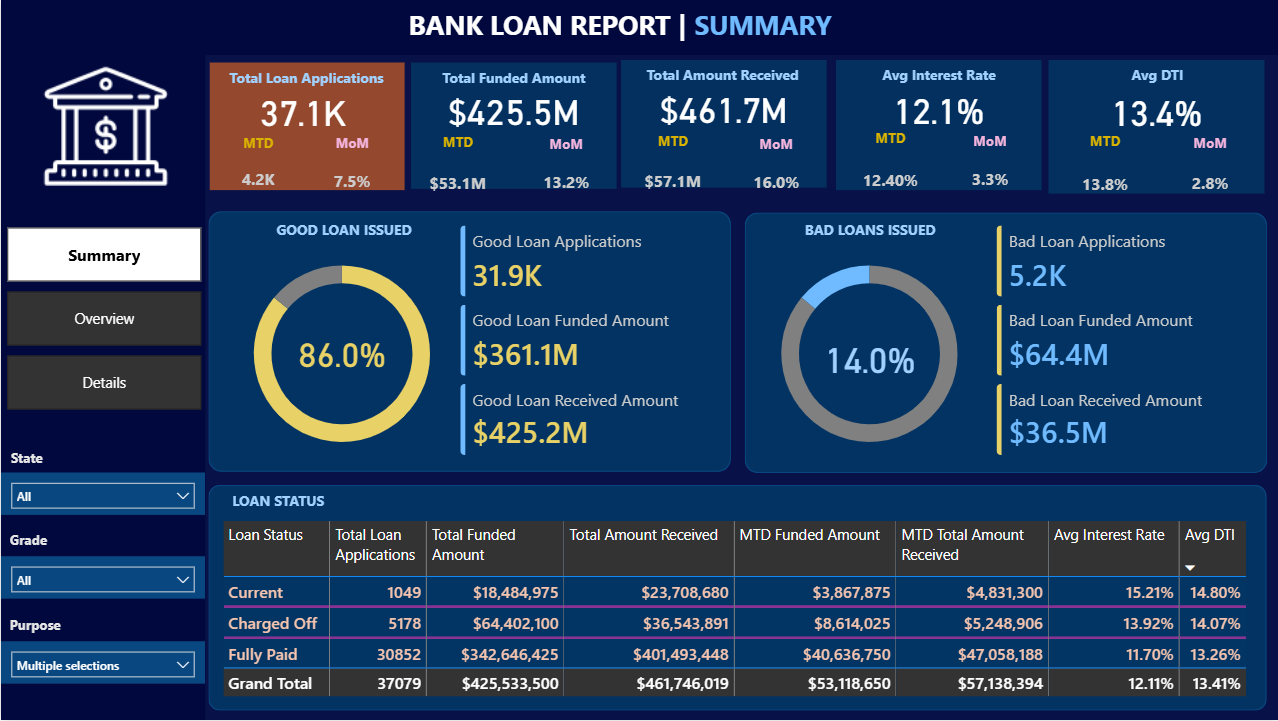

The dashboard page shown, as its layout file describes it:
{"tool":"powerbi","page":{"name":"Summary","canvas":[1280,720],"ordinal":0},"visuals":[{"type":"shape","box":[619.7,60.4,205.8,127.6],"z":0,"group":"g2"},{"type":"shape","box":[834.4,60.4,205.8,130.1],"z":0},{"type":"shape","box":[1047.9,60.4,216.1,133.8],"z":0,"group":"g4"},{"type":"shape","box":[208,63.1,194.9,127.6],"z":0,"group":"g1"},{"type":"shape","box":[409.4,63.1,205.8,126.5],"z":0,"group":"g3"},{"type":"cardVisual","fields":{"Data":["Bank_loan_data.Total Amount Received"]},"box":[619.7,75.5,205.8,68.6],"z":1000,"group":"g2"},{"type":"cardVisual","fields":{"Data":["Bank_loan_data.Avg DTI"]},"box":[1047.9,76.2,216.1,71.9],"z":1000,"group":"g4"},{"type":"cardVisual","fields":{"Data":["Bank_loan_data.Total Funded Amount"]},"box":[409.4,78.1,205.8,68],"z":1000,"group":"g3"},{"type":"cardVisual","fields":{"Data":["Bank_loan_data.Total Loan Applications"]},"box":[204.5,78.6,194.9,68.6],"z":1000,"group":"g1"},{"type":"shape","box":[207.5,211.1,522.4,260.6],"z":1000},{"type":"textbox","box":[628.4,60.4,188.4,30.2],"z":2000,"group":"g2"},{"type":"textbox","box":[1057,60.4,197.8,31.7],"z":2000,"group":"g4"},{"type":"textbox","box":[216.2,63.1,178.4,30.2],"z":2000,"group":"g1"},{"type":"textbox","box":[418.1,63.1,188.4,29.9],"z":2000,"group":"g3"},{"type":"cardVisual","fields":{"Data":["Bank_loan_data.Avg Interest Rate"]},"box":[834.4,75.8,205.8,69.9],"z":2000},{"type":"cardVisual","title":"MTD","fields":{"Data":["Bank_loan_data.MTD Avg DTI"]},"box":[1034.8,131.2,138.6,83.7],"z":3000,"group":"g4"},{"type":"cardVisual","title":"MTD","fields":{"Data":["Bank_loan_data.MTD Total Amount Received"]},"box":[606.5,132.1,131.7,79.6],"z":3000,"group":"g2"},{"type":"cardVisual","title":"MTD","fields":{"Data":["Bank_loan_data.MTD Funded Amount"]},"box":[391.1,133,131.7,79.9],"z":3000,"group":"g3"},{"type":"cardVisual","title":"MTD","fields":{"Data":["Bank_loan_data.MRD Loan Applications"]},"box":[208,134.5,97.4,68.6],"z":3000,"group":"g1"},{"type":"textbox","box":[254.6,214.7,176.1,30.2],"z":3000},{"type":"shape","box":[0,54.9,204.5,665.5],"z":4000},{"type":"cardVisual","title":"MoM","fields":{"Data":["Bank_loan_data.MoM Avg DTI"]},"box":[1151.7,134,113.9,76.8],"z":4000,"group":"g4"},{"type":"cardVisual","title":"MoM","fields":{"Data":["Bank_loan_data.MoM Loan Application"]},"box":[299.9,134.5,102.9,72.7],"z":4000,"group":"g1"},{"type":"cardVisual","title":"MoM","fields":{"Data":["Bank_loan_data.MoM Total Amount Received"]},"box":[721,134.8,108.4,72.7],"z":4000,"group":"g2"},{"type":"cardVisual","title":"MoM","fields":{"Data":["Bank_loan_data.MoM Total Funded Amount"]},"box":[511.6,135.3,108.4,72.1],"z":4000,"group":"g3"},{"type":"donutChart","fields":{"Category":["Bank_loan_data.Good vs Bad Loan"],"Y":["Bank_loan_data.Total Loan Applications"]},"box":[216,238.9,249.7,230.4],"z":5000},{"type":"shape","box":[0,0,1280.3,55],"z":6000},{"type":"textbox","box":[843.1,60.4,188.4,30.8],"z":7000},{"type":"shape","box":[0,0,1280.3,54.9],"z":8000},{"type":"cardVisual","title":"MTD","fields":{"Data":["Bank_loan_data.MTD Avg Int Rate"]},"box":[823.3,128.5,131.7,81],"z":9000},{"type":"cardVisual","title":"MoM","fields":{"Data":["Bank_loan_data.MoM Avg Int Rate"]},"box":[935.4,131.2,108.4,74.1],"z":10000},{"type":"cardVisual","fields":{"Data":["Bank_loan_data.Good Loan %"]},"box":[261.8,319.7,160.5,67.6],"z":11000},{"type":"textbox","box":[402.1,1.4,447.3,53.5],"z":12000},{"type":"group","id":"g1","title":"Group 1","box":[204.5,63.1,199,144.1],"z":13000},{"type":"group","id":"g2","title":"Group 1","box":[606.5,60.4,222.3,150.9],"z":14000},{"type":"group","id":"g3","title":"Group 1","box":[391.1,63.1,229.2,149.6],"z":15000},{"type":"group","id":"g4","title":"Group 1","box":[1034.8,60.4,230.8,154.5],"z":16000},{"type":"shape","box":[207.5,485,1058,225.6],"z":17000},{"type":"shape","box":[743.2,212.3,522.4,260.6],"z":18000},{"type":"cardVisual","fields":{"Data":["Bank_loan_data.Good Loan Applications","Bank_loan_data.Good Loan Funded Amount","Bank_loan_data.Good Loan Received Amount"]},"box":[442.8,208.7,287.1,265.4],"z":19000},{"type":"donutChart","fields":{"Category":["Bank_loan_data.Good vs Bad Loan"],"Y":["Bank_loan_data.Total Loan Applications"]},"box":[744.4,238.9,249.7,230.4],"z":20000},{"type":"textbox","box":[779.4,214.7,181,39.8],"z":21000},{"type":"cardVisual","fields":{"Data":["Bank_loan_data.Bad Loan Applications","Bank_loan_data.Bad Loan Funded Amount","Bank_loan_data.Bad Loan Received Amount"]},"box":[978.4,208.7,287.1,265.4],"z":22000},{"type":"cardVisual","fields":{"Data":["Bank_loan_data.Bad Loan %"]},"box":[789,325.7,160.5,67.6],"z":23000},{"type":"tableEx","fields":{"Values":["Bank_loan_data.loan_status","Bank_loan_data.Total Loan Applications","Bank_loan_data.Total Funded Amount","Bank_loan_data.Total Amount Received","Bank_loan_data.MTD Funded Amount","Bank_loan_data.MTD Total Amount Received","Bank_loan_data.Avg Interest Rate","Bank_loan_data.Avg DTI"]},"box":[216,516.4,1044.8,194.2],"z":24000},{"type":"textbox","box":[226.8,486.2,176.1,30.2],"z":25000},{"type":"slicer","fields":{"Values":["Bank_loan_data.address_state"]},"box":[0,472.9,203.9,42.2],"z":26000},{"type":"textbox","box":[1.2,444,203.9,30.2],"z":27000},{"type":"slicer","fields":{"Values":["Bank_loan_data.grade"]},"box":[0,556.2,203.9,42.2],"z":28000},{"type":"slicer","fields":{"Values":["Bank_loan_data.purpose"]},"box":[0,641.8,203.9,42.2],"z":29000},{"type":"textbox","box":[0,526,203.9,30.2],"z":30000},{"type":"textbox","box":[0,611.7,203.9,30.2],"z":31000},{"type":"image","box":[21.7,59.1,166.5,135.1],"z":32000},{"type":"pageNavigator","box":[6,228,194.2,182.2],"z":33000}]}

Visuals, with their boxes in screenshot pixels (x1, y1, x2, y2), scaled from the page's 1280x720 canvas onto the 1278x721 screenshot:
shape: {"x1": 619, "y1": 60, "x2": 824, "y2": 188}
shape: {"x1": 833, "y1": 60, "x2": 1039, "y2": 191}
shape: {"x1": 1046, "y1": 60, "x2": 1262, "y2": 194}
shape: {"x1": 208, "y1": 63, "x2": 402, "y2": 191}
shape: {"x1": 409, "y1": 63, "x2": 614, "y2": 190}
cardVisual - Bank_loan_data.Total Amount Received: {"x1": 619, "y1": 76, "x2": 824, "y2": 144}
cardVisual - Bank_loan_data.Avg DTI: {"x1": 1046, "y1": 76, "x2": 1262, "y2": 148}
cardVisual - Bank_loan_data.Total Funded Amount: {"x1": 409, "y1": 78, "x2": 614, "y2": 146}
cardVisual - Bank_loan_data.Total Loan Applications: {"x1": 204, "y1": 79, "x2": 399, "y2": 147}
shape: {"x1": 207, "y1": 211, "x2": 729, "y2": 472}
textbox: {"x1": 627, "y1": 60, "x2": 816, "y2": 91}
textbox: {"x1": 1055, "y1": 60, "x2": 1253, "y2": 92}
textbox: {"x1": 216, "y1": 63, "x2": 394, "y2": 93}
textbox: {"x1": 417, "y1": 63, "x2": 606, "y2": 93}
cardVisual - Bank_loan_data.Avg Interest Rate: {"x1": 833, "y1": 76, "x2": 1039, "y2": 146}
"MTD" cardVisual: {"x1": 1033, "y1": 131, "x2": 1172, "y2": 215}
"MTD" cardVisual: {"x1": 606, "y1": 132, "x2": 737, "y2": 212}
"MTD" cardVisual: {"x1": 390, "y1": 133, "x2": 522, "y2": 213}
"MTD" cardVisual: {"x1": 208, "y1": 135, "x2": 305, "y2": 203}
textbox: {"x1": 254, "y1": 215, "x2": 430, "y2": 245}
shape: {"x1": 0, "y1": 55, "x2": 204, "y2": 720}
"MoM" cardVisual: {"x1": 1150, "y1": 134, "x2": 1264, "y2": 211}
"MoM" cardVisual: {"x1": 299, "y1": 135, "x2": 402, "y2": 207}
"MoM" cardVisual: {"x1": 720, "y1": 135, "x2": 828, "y2": 208}
"MoM" cardVisual: {"x1": 511, "y1": 135, "x2": 619, "y2": 208}
donutChart - Bank_loan_data.Good vs Bad Loan x Bank_loan_data.Total Loan Applications: {"x1": 216, "y1": 239, "x2": 465, "y2": 470}
shape: {"x1": 0, "y1": 0, "x2": 1277, "y2": 55}
textbox: {"x1": 842, "y1": 60, "x2": 1030, "y2": 91}
shape: {"x1": 0, "y1": 0, "x2": 1277, "y2": 55}
"MTD" cardVisual: {"x1": 822, "y1": 129, "x2": 954, "y2": 210}
"MoM" cardVisual: {"x1": 934, "y1": 131, "x2": 1042, "y2": 206}
cardVisual - Bank_loan_data.Good Loan %: {"x1": 261, "y1": 320, "x2": 422, "y2": 388}
textbox: {"x1": 401, "y1": 1, "x2": 848, "y2": 55}
"Group 1" group: {"x1": 204, "y1": 63, "x2": 403, "y2": 207}
"Group 1" group: {"x1": 606, "y1": 60, "x2": 828, "y2": 212}
"Group 1" group: {"x1": 390, "y1": 63, "x2": 619, "y2": 213}
"Group 1" group: {"x1": 1033, "y1": 60, "x2": 1264, "y2": 215}
shape: {"x1": 207, "y1": 486, "x2": 1264, "y2": 712}
shape: {"x1": 742, "y1": 213, "x2": 1264, "y2": 474}
cardVisual - Bank_loan_data.Good Loan Applications x Bank_loan_data.Good Loan Funded Amount: {"x1": 442, "y1": 209, "x2": 729, "y2": 475}
donutChart - Bank_loan_data.Good vs Bad Loan x Bank_loan_data.Total Loan Applications: {"x1": 743, "y1": 239, "x2": 993, "y2": 470}
textbox: {"x1": 778, "y1": 215, "x2": 959, "y2": 255}
cardVisual - Bank_loan_data.Bad Loan Applications x Bank_loan_data.Bad Loan Funded Amount: {"x1": 977, "y1": 209, "x2": 1264, "y2": 475}
cardVisual - Bank_loan_data.Bad Loan %: {"x1": 788, "y1": 326, "x2": 948, "y2": 394}
tableEx - Bank_loan_data.loan_status x Bank_loan_data.Total Loan Applications: {"x1": 216, "y1": 517, "x2": 1259, "y2": 712}
textbox: {"x1": 226, "y1": 487, "x2": 402, "y2": 517}
slicer - Bank_loan_data.address_state: {"x1": 0, "y1": 474, "x2": 204, "y2": 516}
textbox: {"x1": 1, "y1": 445, "x2": 205, "y2": 475}
slicer - Bank_loan_data.grade: {"x1": 0, "y1": 557, "x2": 204, "y2": 599}
slicer - Bank_loan_data.purpose: {"x1": 0, "y1": 643, "x2": 204, "y2": 685}
textbox: {"x1": 0, "y1": 527, "x2": 204, "y2": 557}
textbox: {"x1": 0, "y1": 613, "x2": 204, "y2": 643}
image: {"x1": 22, "y1": 59, "x2": 188, "y2": 194}
pageNavigator: {"x1": 6, "y1": 228, "x2": 200, "y2": 411}
